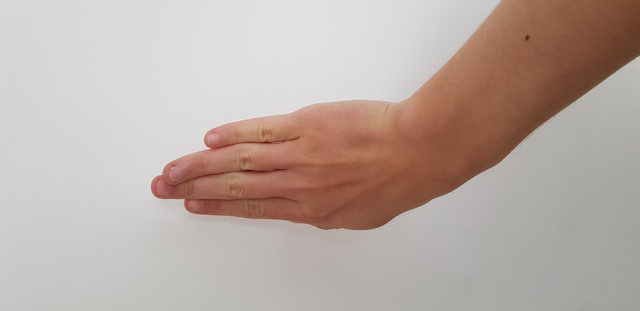Paper: (112, 75, 488, 260)
